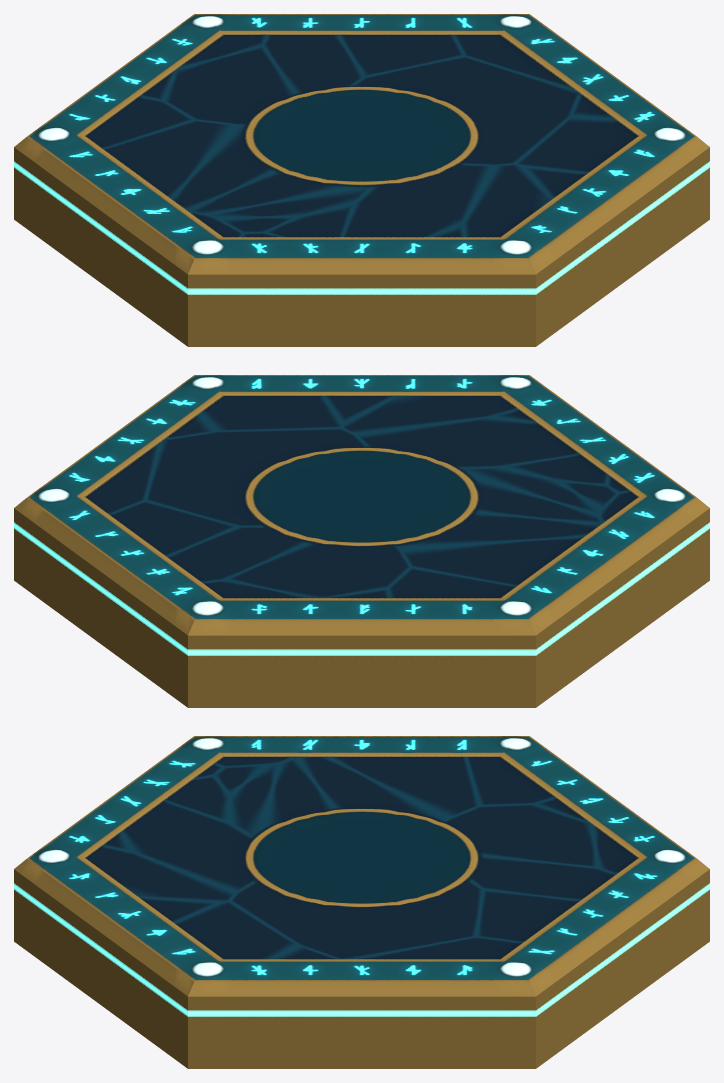
Rendered from hex_abyssal.glb.
3 views of the same model, one above another, from view 1: azimuth 30°, elevation 25°; view 2: azimuth 150°, elevation 25°; view 3: azimuth 270°, elevation 25° (orthographic).
Parts seen in each view (by area): view 1: hex_abyssal; view 2: hex_abyssal; view 3: hex_abyssal.
Part boxes in pixels (box(x1,y1,x2,y2)): hex_abyssal: box(14, 14, 709, 346); hex_abyssal: box(14, 375, 709, 707); hex_abyssal: box(14, 736, 709, 1068).
Size of the model in its own units: 2 by 0.3273 by 2.31.
Materials: 1 (1 with a texture image).
